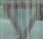Give way: (3, 2, 40, 35)
